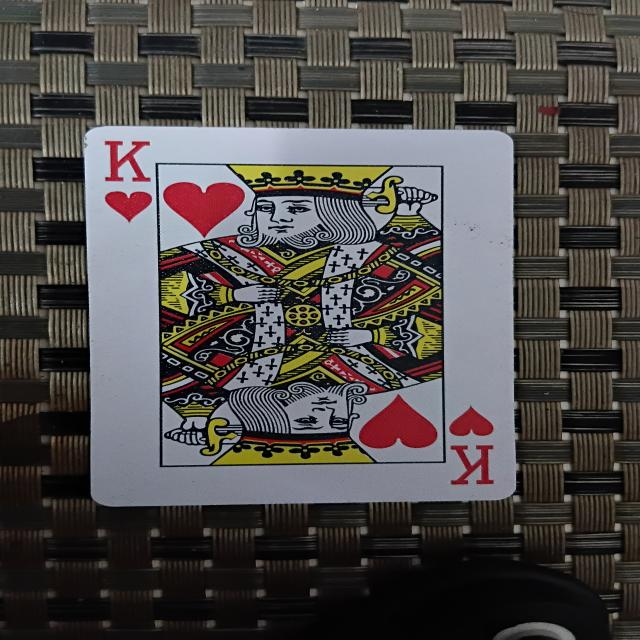KH: (84, 127, 518, 504)
